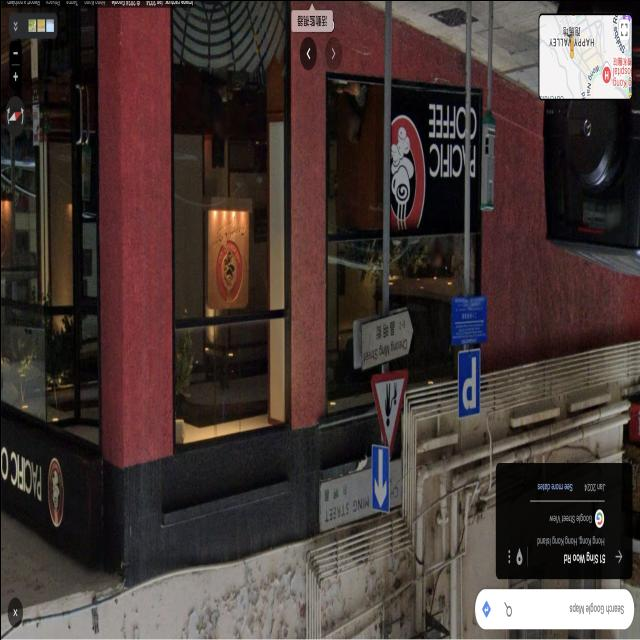Direction-Sign: (371, 447, 388, 513)
Street-Direction-Sign: (360, 308, 414, 370)
Warning-Sign: (369, 368, 409, 460)
